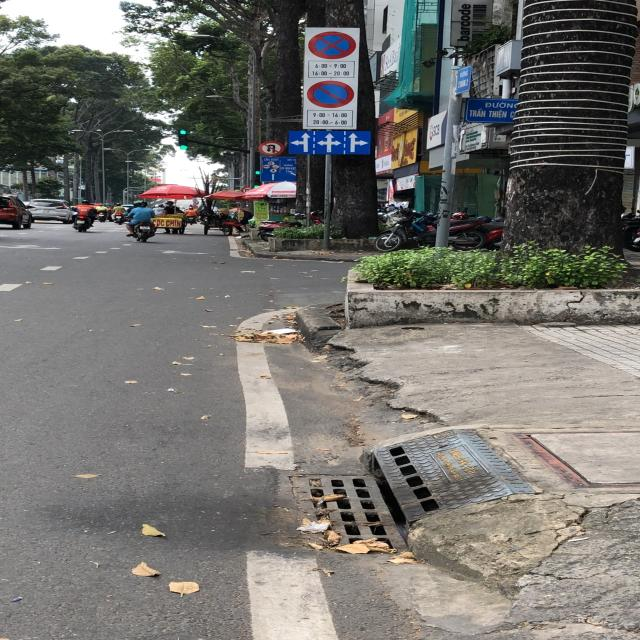Bien bao cam do xe: (307, 78, 361, 109)
Bien bao cam dung xe va do xe: (306, 30, 361, 61)
Bien bao cam quay dau xe: (257, 140, 292, 158)
